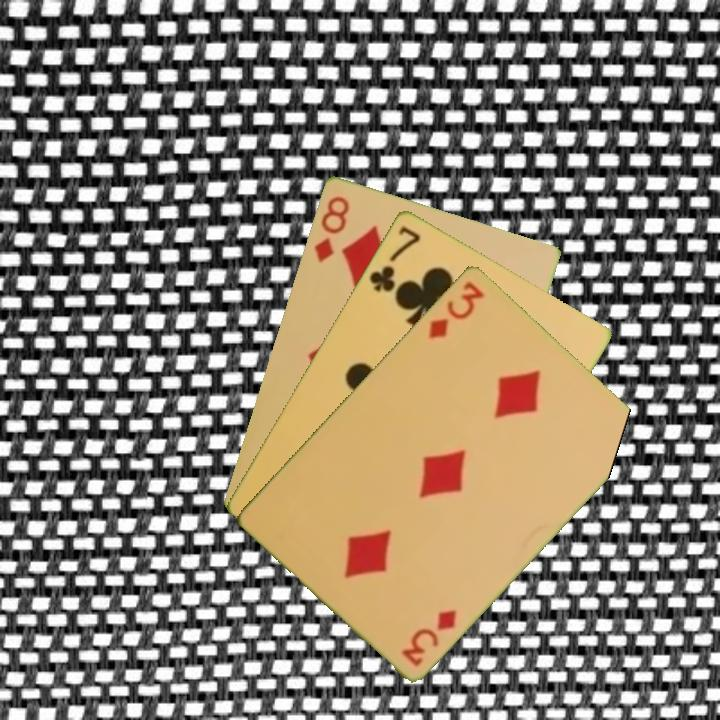3d: (425, 276, 487, 342), (397, 605, 460, 669)
7c: (365, 222, 424, 295)
8d: (310, 192, 352, 266)
